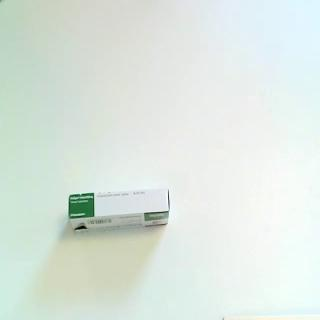nobligan_retard200mg: (68, 186, 172, 235)
